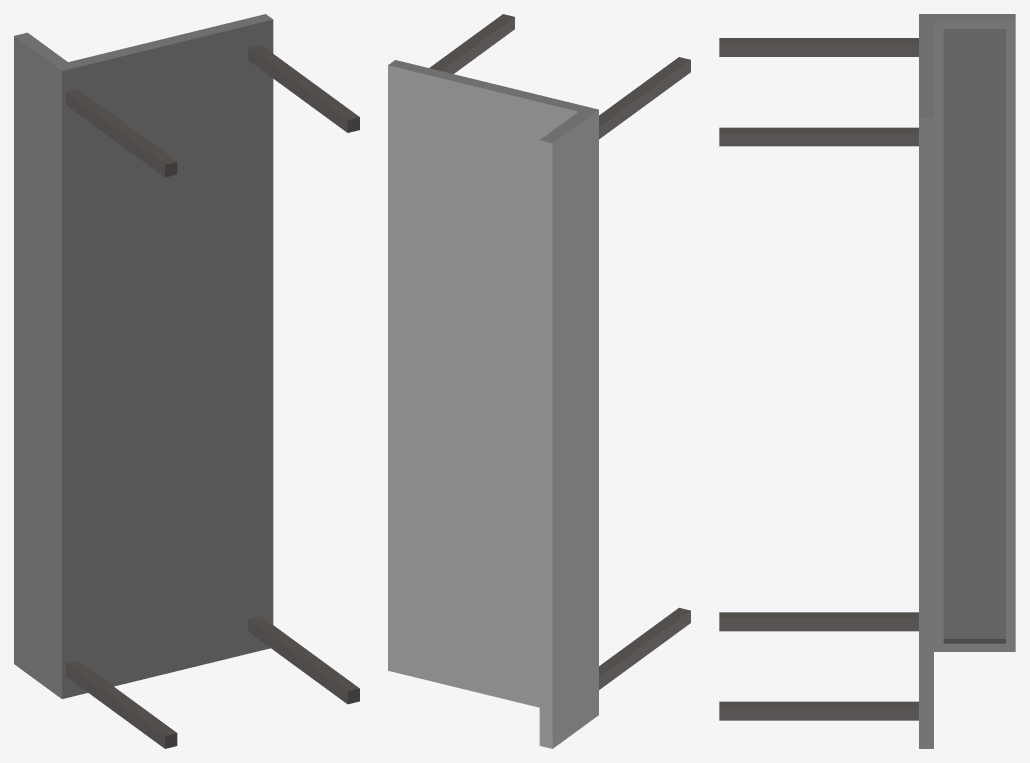
File: Desk.glb
3 renders of one model, left to right at view 1: azimuth 30°, elevation 25°; view 2: azimuth 150°, elevation 25°; view 3: azimuth 270°, elevation 25°, orthographic. The views are drawn at different scales.
Visible parts, largest first — view 1: SO_Desk_01; view 2: SO_Desk_01; view 3: SO_Desk_01.
Part boxes in pixels (bbox=[...]): SO_Desk_01: bbox=[14, 14, 359, 748]; SO_Desk_01: bbox=[388, 14, 690, 748]; SO_Desk_01: bbox=[719, 14, 1015, 748].
Bounding box in the file's own units: 1.8 × 5.11 × 2.17.
1 material, 1 textured.
